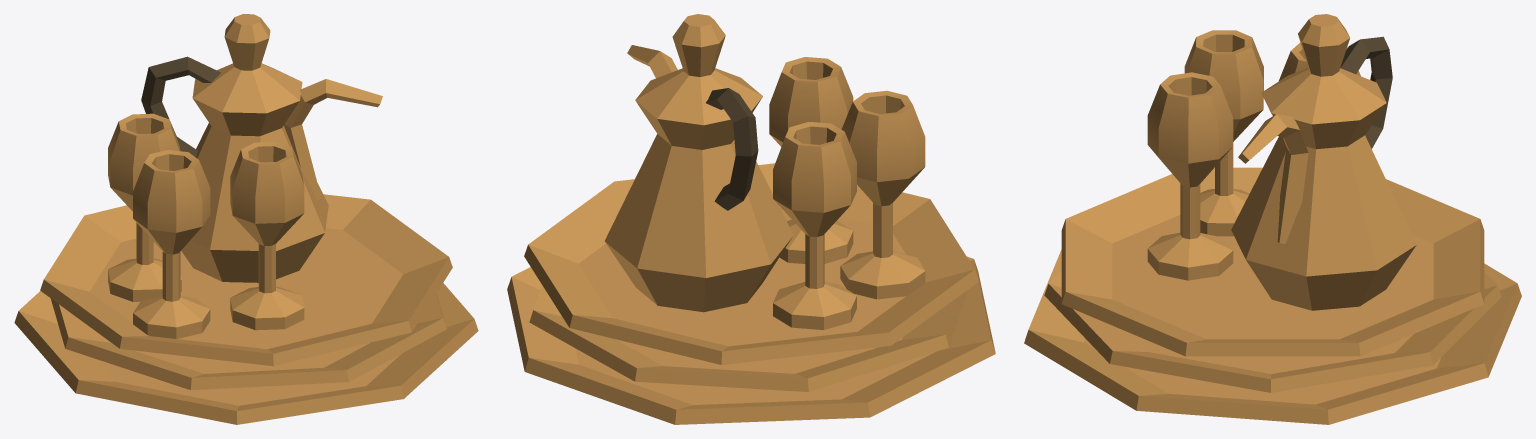
The model's file is SM_Prop_Gold_Plates_Preset_03.glb.
3 renders of one model, left to right at view 1: azimuth 30°, elevation 25°; view 2: azimuth 150°, elevation 25°; view 3: azimuth 270°, elevation 25°, orthographic. The views are drawn at different scales.
Parts seen in each view (by area): view 1: SM_Prop_Gold_Plates_Preset_03; view 2: SM_Prop_Gold_Plates_Preset_03; view 3: SM_Prop_Gold_Plates_Preset_03.
Part boxes in pixels (x1=…): SM_Prop_Gold_Plates_Preset_03: x1=14, y1=14, x2=478, y2=424; SM_Prop_Gold_Plates_Preset_03: x1=507, y1=14, x2=995, y2=424; SM_Prop_Gold_Plates_Preset_03: x1=1024, y1=14, x2=1521, y2=424.
Size of the model in its own units: 0.71 by 0.5403 by 0.71.
Materials: 1 (1 with a texture image).
